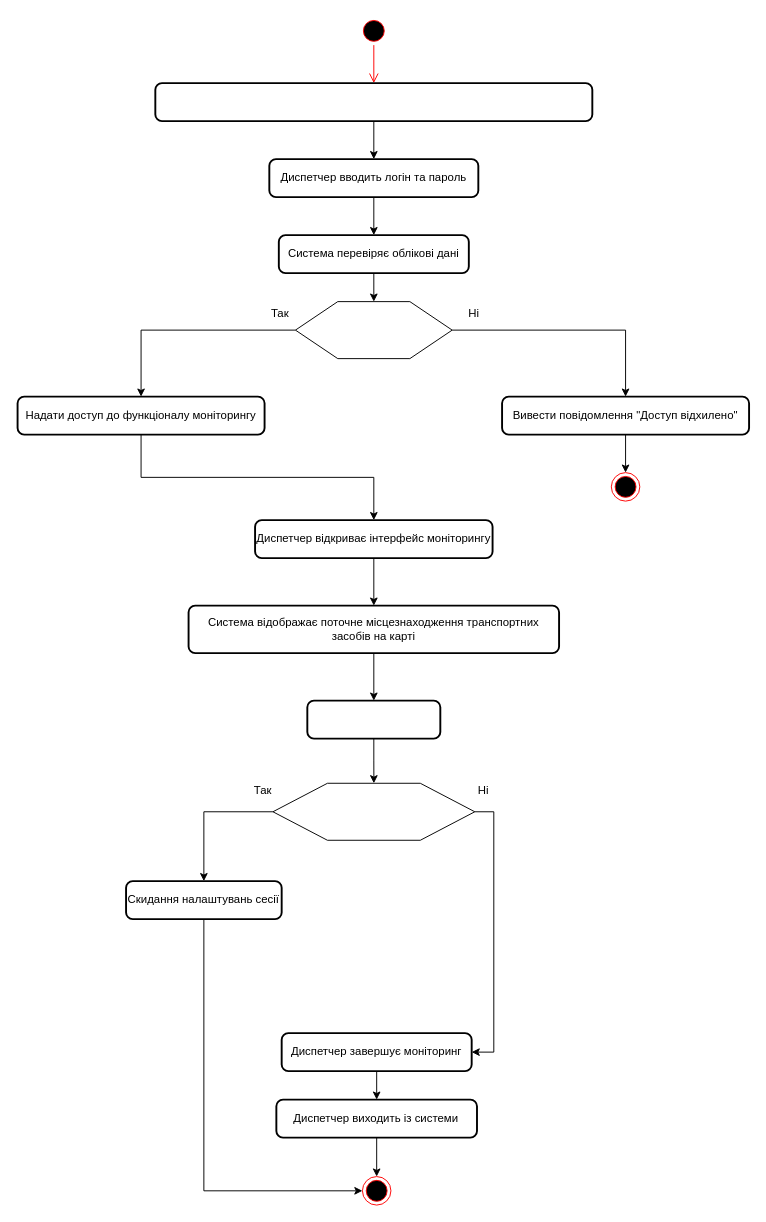
Image size: 766x1222. Some labels were removed from this diagram. Each missing label, with the box of its shape:
Диспетчер вирішує вийти до завершення моніторингу?: (272, 782, 475, 840)
Диспетчер запускає систему на комп’ютері або мобільному пристрої: (154, 82, 593, 122)
Моніторинг виконується: (306, 699, 441, 739)
Облікові дані коректні: (294, 301, 452, 359)
